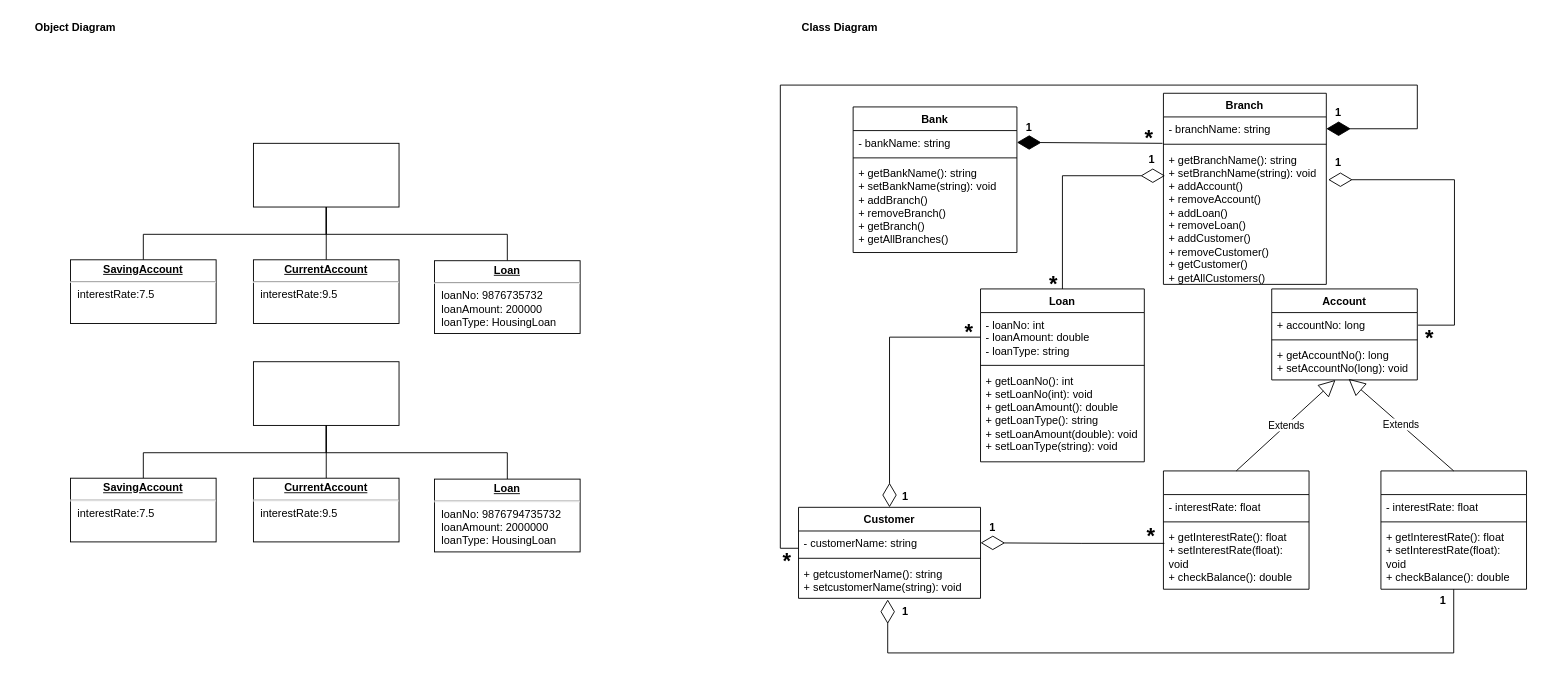
The diagram is 1542 pixels wide and 693 high, and some of its shapes have lost their labels. Here are the shapes that lost their labels. From the top down, the box of each, then its label:
(253, 142, 399, 207): C1:Customer CustomerName: Shiva
(253, 361, 399, 425): C2:Customer CustomerName: Madhan
(1163, 470, 1309, 589): SavingAccount
(1380, 470, 1527, 589): CurrentAccount
